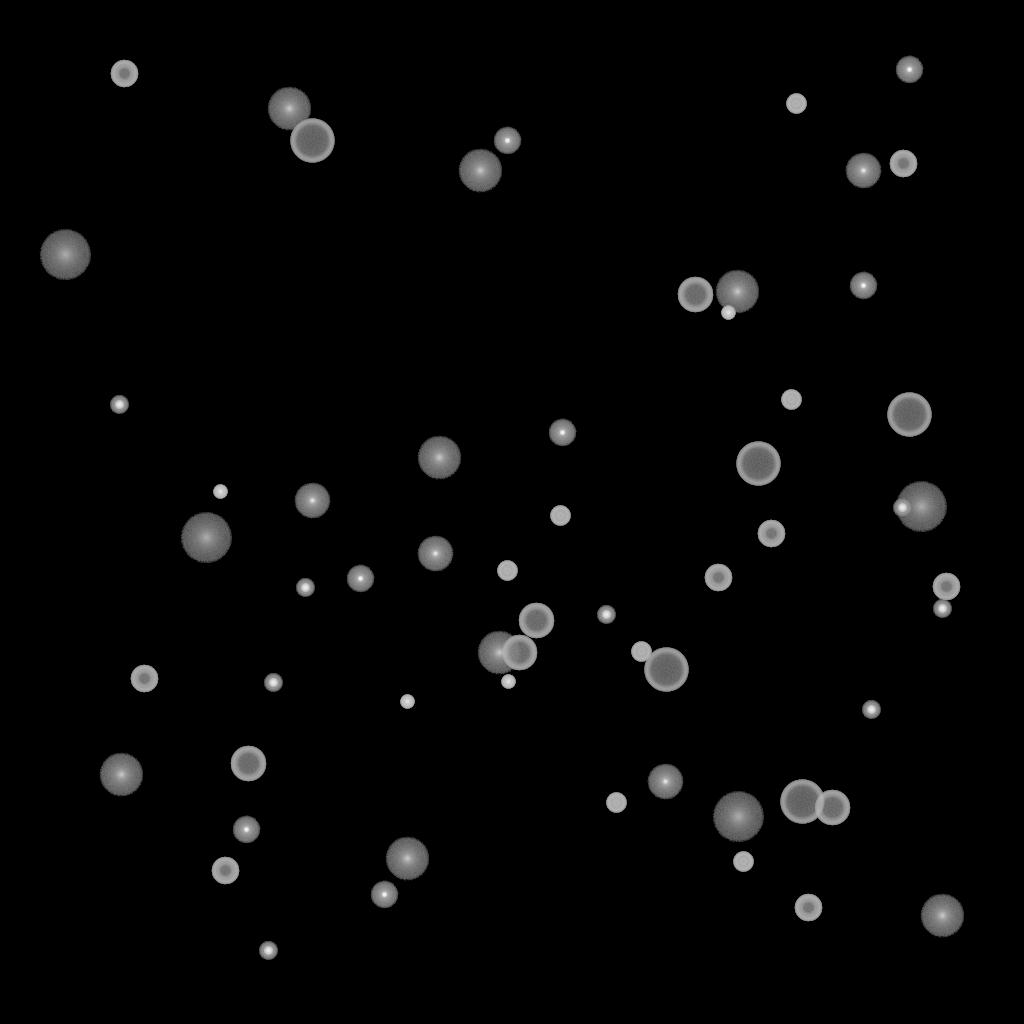depth:-10: (548, 419, 576, 447), (232, 816, 260, 844), (493, 127, 521, 155), (370, 881, 398, 909), (346, 565, 374, 593), (895, 56, 923, 84), (849, 272, 877, 300)
depth:-20: (862, 701, 880, 719), (597, 606, 615, 624), (893, 499, 911, 517), (296, 579, 314, 597), (259, 942, 277, 960), (110, 396, 128, 414), (264, 674, 282, 692), (933, 600, 951, 618)
depth:-30: (213, 485, 227, 499), (501, 675, 515, 689), (721, 306, 735, 320), (400, 695, 414, 709)
depth:-40: (733, 852, 753, 872), (781, 390, 801, 410), (631, 642, 651, 662), (786, 94, 806, 114), (497, 561, 517, 581), (550, 506, 570, 526), (606, 793, 626, 813)
depth:-50: (757, 520, 785, 548), (704, 564, 732, 592), (889, 150, 917, 178), (110, 60, 138, 88), (211, 857, 239, 885), (932, 573, 960, 601), (794, 894, 822, 922), (130, 665, 158, 693)
depth:-60: (518, 603, 554, 639), (677, 277, 713, 313), (501, 635, 537, 671), (230, 746, 266, 782), (814, 790, 850, 826)
depth:-70: (644, 648, 688, 692), (887, 393, 931, 437), (736, 442, 780, 486), (290, 119, 334, 163), (780, 780, 824, 824)
depth:0: (294, 483, 330, 519), (647, 764, 683, 800), (845, 153, 881, 189), (417, 536, 453, 572)
depth:10: (385, 837, 429, 881), (99, 753, 143, 797), (477, 631, 521, 675), (920, 894, 964, 938), (458, 149, 502, 193), (715, 270, 759, 314), (267, 87, 311, 131), (417, 436, 461, 480)
depth:20: (39, 230, 91, 280), (180, 513, 232, 563), (895, 482, 947, 532), (712, 792, 764, 842)
